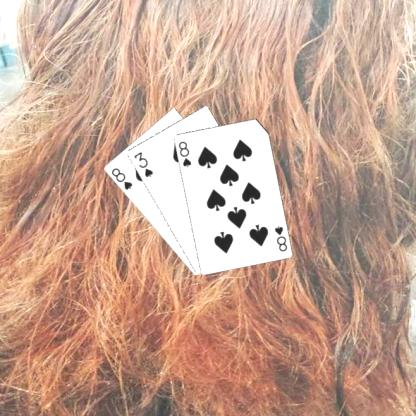3S: (131, 149, 154, 178)
8S: (108, 165, 134, 192), (272, 222, 288, 253), (176, 139, 192, 168)
